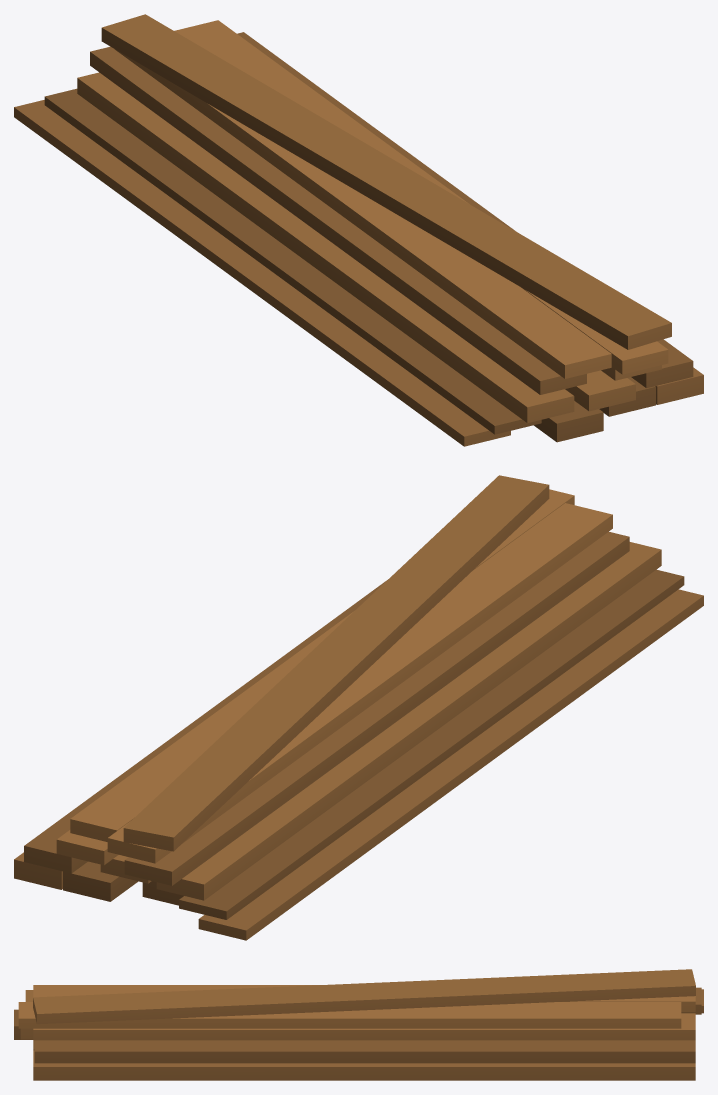
The model's file is Prop_Plank_Stack_02.obj.
The picture shows the model from 3 angles, top to bottom: view 1: azimuth 30°, elevation 25°; view 2: azimuth 150°, elevation 25°; view 3: azimuth 270°, elevation 25°; orthographic projection. The views are drawn at different scales.
Visible parts, largest first — view 1: Prop_Plank_Stack_02; view 2: Prop_Plank_Stack_02; view 3: Prop_Plank_Stack_02.
Boxes of the visible parts, x1,y1,x2,y2 form: Prop_Plank_Stack_02: (14,14,703,446); Prop_Plank_Stack_02: (14,475,703,940); Prop_Plank_Stack_02: (14,969,703,1080).
Size of the model in its own units: 1.05 by 0.3266 by 3.65.
Materials: 1 (1 with a texture image).
